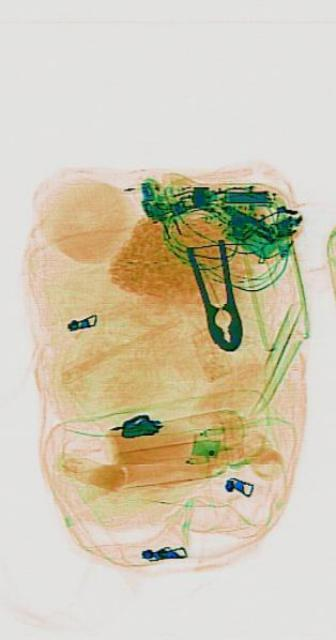Pliers: (183, 224, 242, 364)
